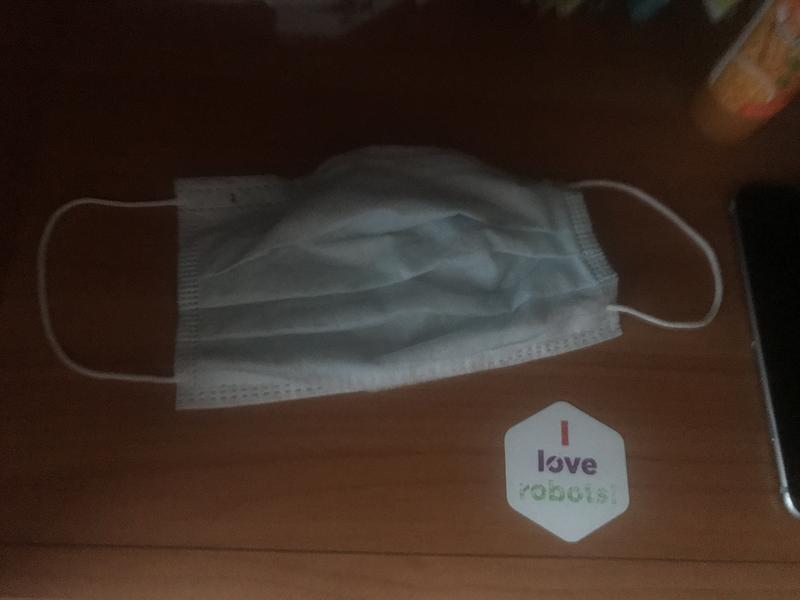medical_mask: (43, 147, 724, 405)
